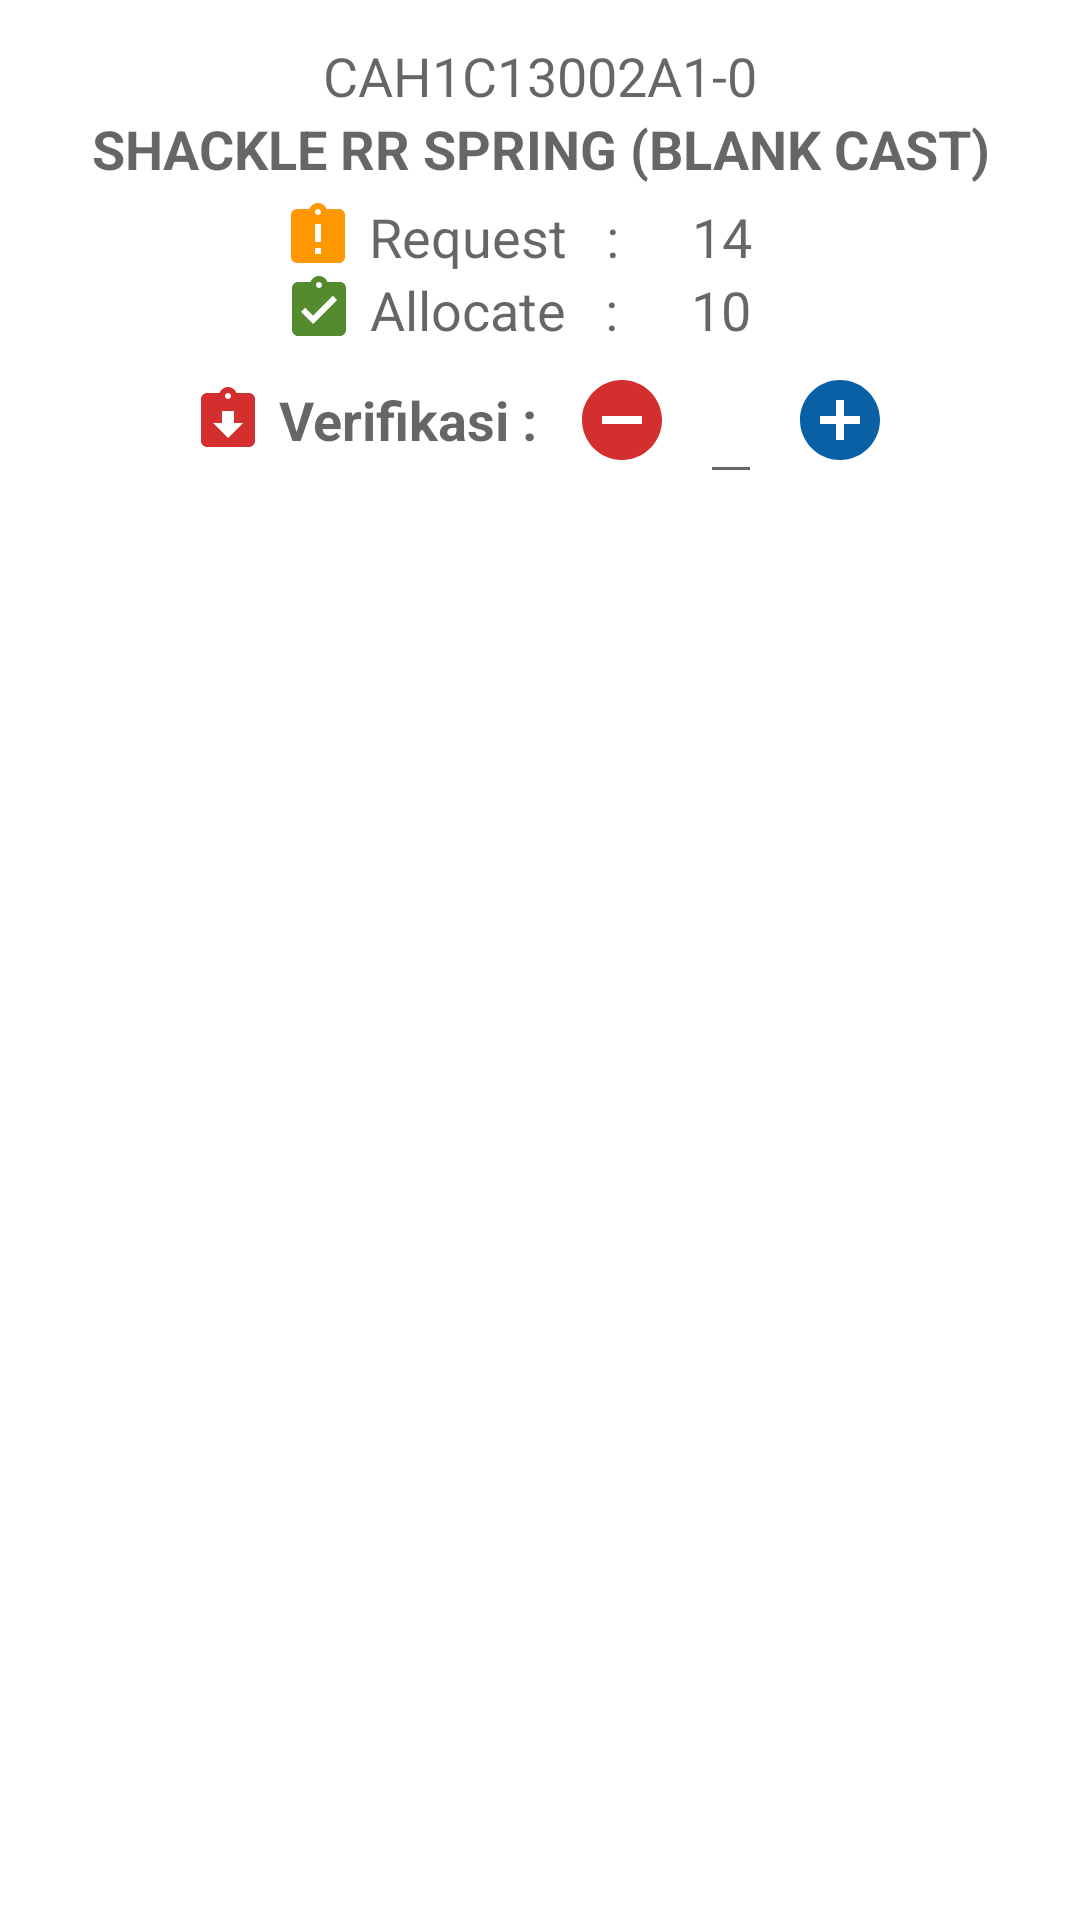

Screen size 1080x1920. Icon name, then its center in pixels as (x=x, y=y):
input: (x=228, y=417)
minus: (x=622, y=420)
plus: (x=840, y=420)
